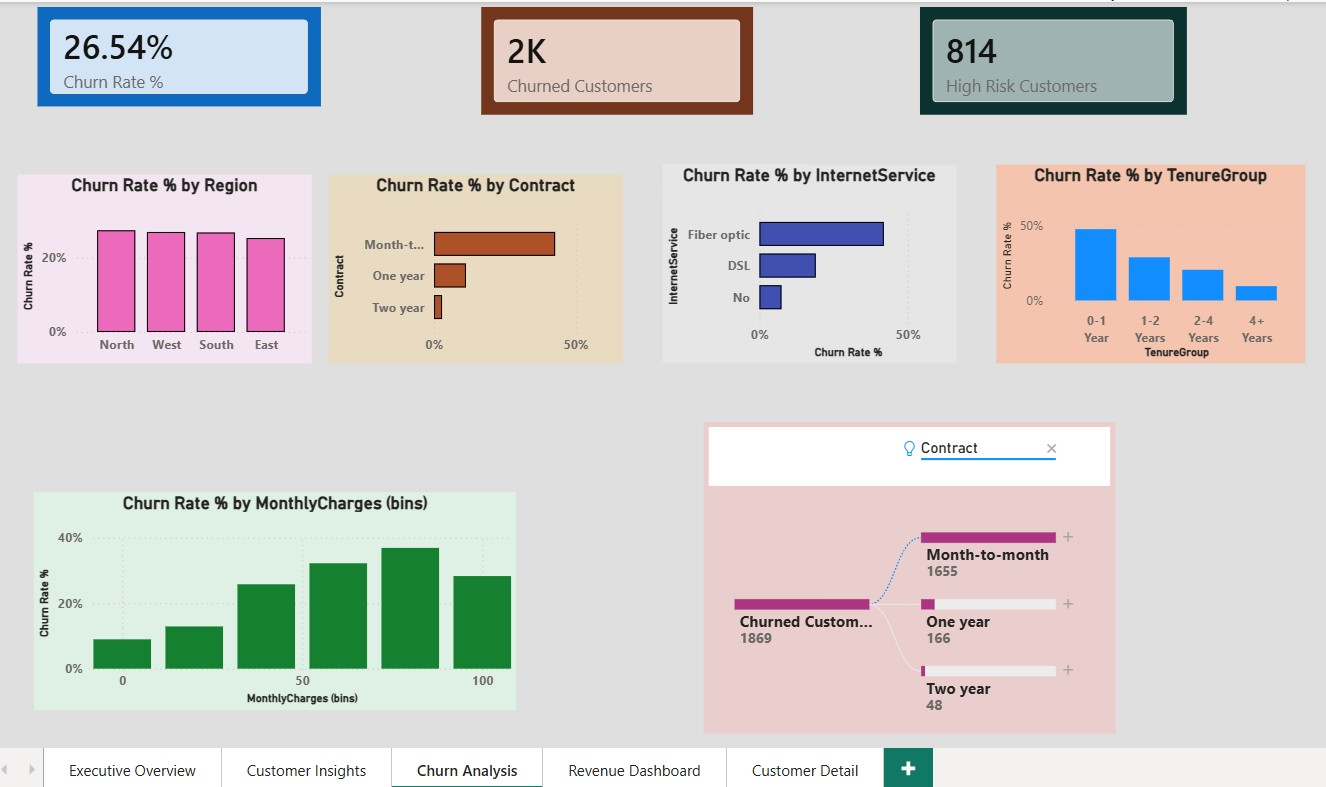

Layout of this report page (visuals, bound fields, positions):
{"tool":"powerbi","page":{"name":"Churn Analysis","canvas":[1280,720],"ordinal":2},"visuals":[{"type":"cardVisual","fields":{"Data":["fact_Churn.Churn Rate %"]},"box":[31.8,0,283.7,106.4],"z":0},{"type":"cardVisual","fields":{"Data":["fact_Churn.Churned Customers"]},"box":[459.8,0,272.7,114.9],"z":1000},{"type":"cardVisual","fields":{"Data":["fact_Churn.High Risk Customers"]},"box":[882.9,0,267.8,114.9],"z":2000},{"type":"clusteredColumnChart","fields":{"Category":["churn_project dim_customer.Region"],"Y":["fact_Churn.Churn Rate %"]},"box":[17.4,166.3,284,182],"z":3000},{"type":"barChart","fields":{"Y":["fact_Churn.Churn Rate %"],"Category":["churn_project dim_subscription.Contract"]},"box":[317.8,166.3,284,182],"z":4000},{"type":"barChart","fields":{"Y":["fact_Churn.Churn Rate %"],"Category":["churn_project dim_subscription.InternetService"]},"box":[639.5,156.5,283.7,192],"z":5000},{"type":"clusteredColumnChart","fields":{"Category":["fact_Churn.TenureGroup"],"Y":["fact_Churn.Churn Rate %"]},"box":[961.1,156.5,298.4,192],"z":6000},{"type":"columnChart","fields":{"Category":["fact_Churn.MonthlyCharges (bins)"],"Y":["fact_Churn.Churn Rate %"]},"box":[32.3,472.9,465.9,210.3],"z":7000},{"type":"decompositionTreeVisual","fields":{"Analyze":["fact_Churn.Churned Customers"],"ExplainBy":["churn_project dim_subscription.Contract","churn_project dim_subscription.PaymentMethod","fact_Churn.TenureGroup","churn_project dim_subscription.InternetService"]},"box":[679,405.9,397.4,300.8],"z":8000}]}

Visuals, with their boxes on the page's 1280x720 design canvas (x1, y1, x2, y2). These are canvas units, not pixel positions in the 1326x787 screenshot, which may show the page scaled, cropped or inside an application window:
cardVisual - fact_Churn.Churn Rate %: {"x1": 32, "y1": 0, "x2": 316, "y2": 106}
cardVisual - fact_Churn.Churned Customers: {"x1": 460, "y1": 0, "x2": 732, "y2": 115}
cardVisual - fact_Churn.High Risk Customers: {"x1": 883, "y1": 0, "x2": 1151, "y2": 115}
clusteredColumnChart - churn_project dim_customer.Region x fact_Churn.Churn Rate %: {"x1": 17, "y1": 166, "x2": 301, "y2": 348}
barChart - fact_Churn.Churn Rate % x churn_project dim_subscription.Contract: {"x1": 318, "y1": 166, "x2": 602, "y2": 348}
barChart - fact_Churn.Churn Rate % x churn_project dim_subscription.InternetService: {"x1": 640, "y1": 156, "x2": 923, "y2": 348}
clusteredColumnChart - fact_Churn.TenureGroup x fact_Churn.Churn Rate %: {"x1": 961, "y1": 156, "x2": 1260, "y2": 348}
columnChart - fact_Churn.MonthlyCharges (bins) x fact_Churn.Churn Rate %: {"x1": 32, "y1": 473, "x2": 498, "y2": 683}
decompositionTreeVisual - fact_Churn.Churned Customers x churn_project dim_subscription.Contract: {"x1": 679, "y1": 406, "x2": 1076, "y2": 707}
